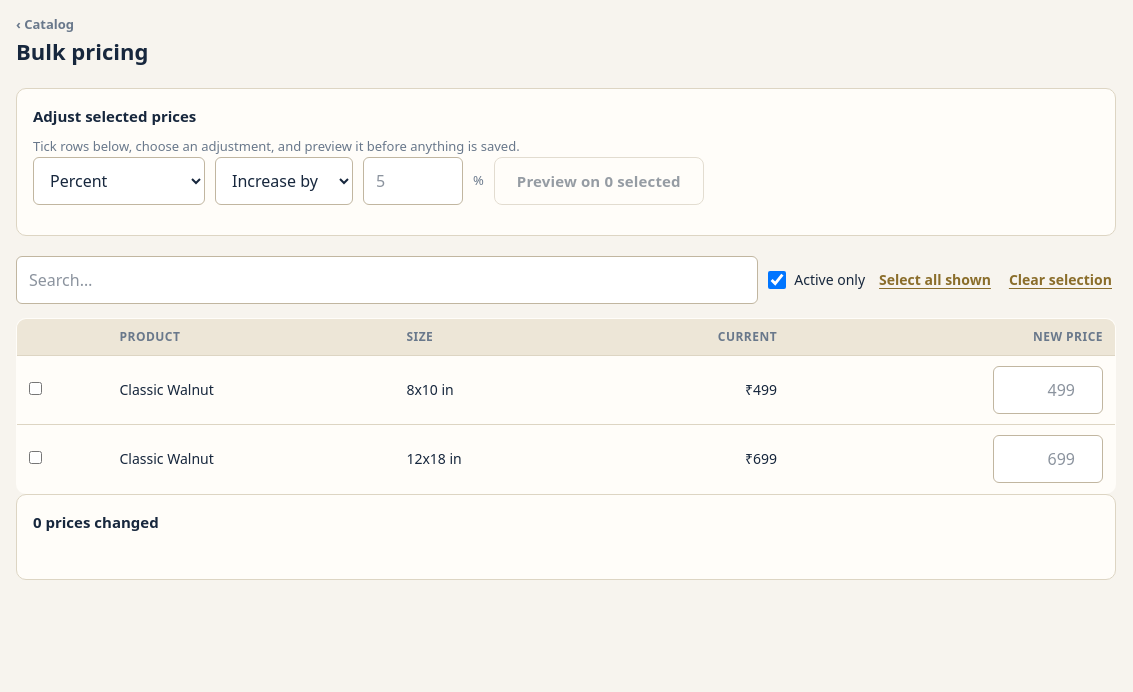
it: BulkPricingPage › previews a percentage increase on selected rows before saving anything
The image size is (1133, 692).
Click the checkbox named "Select Classic Walnut 8x10 in" at x=36, y=388, box [29,382,42,394]
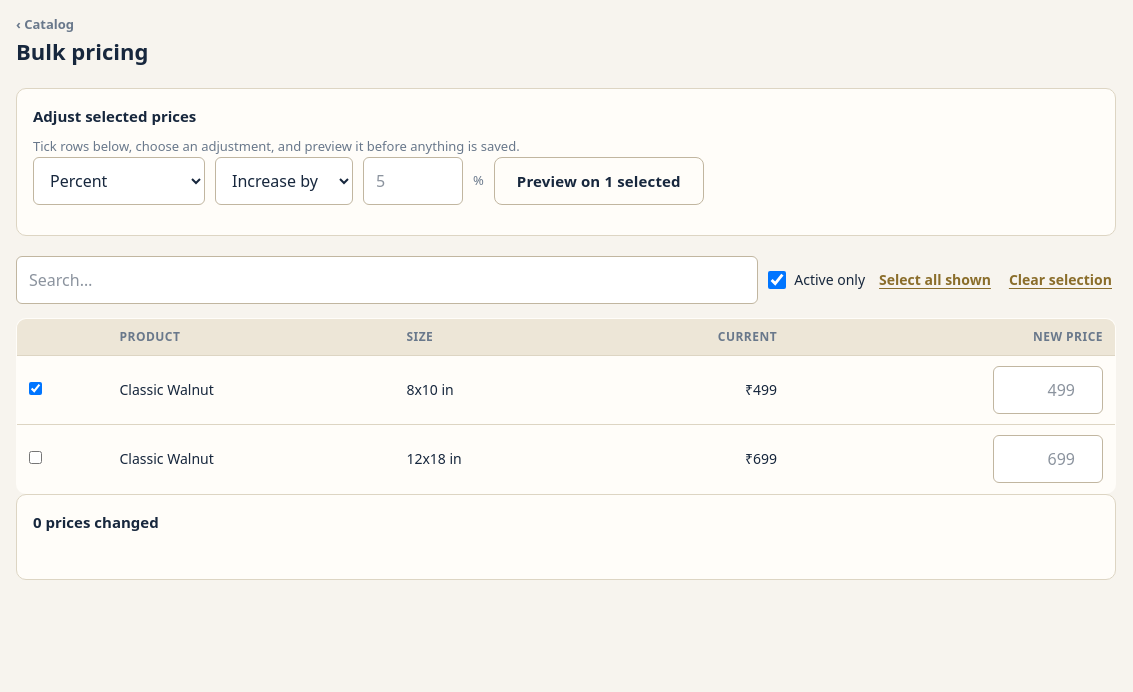
Type "10" into the number field with test id "adjustment-amount" at x=413, y=180, box [363,156,463,204]
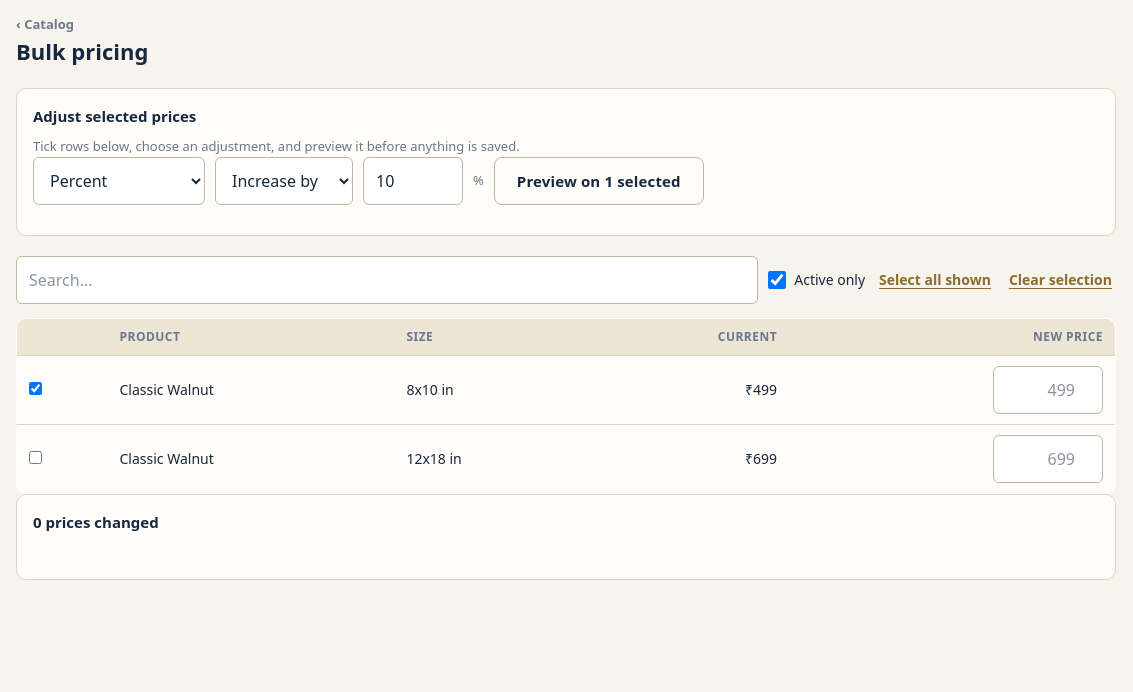
Click the button with test id "preview-adjustment" at x=599, y=180, box [494,156,704,204]
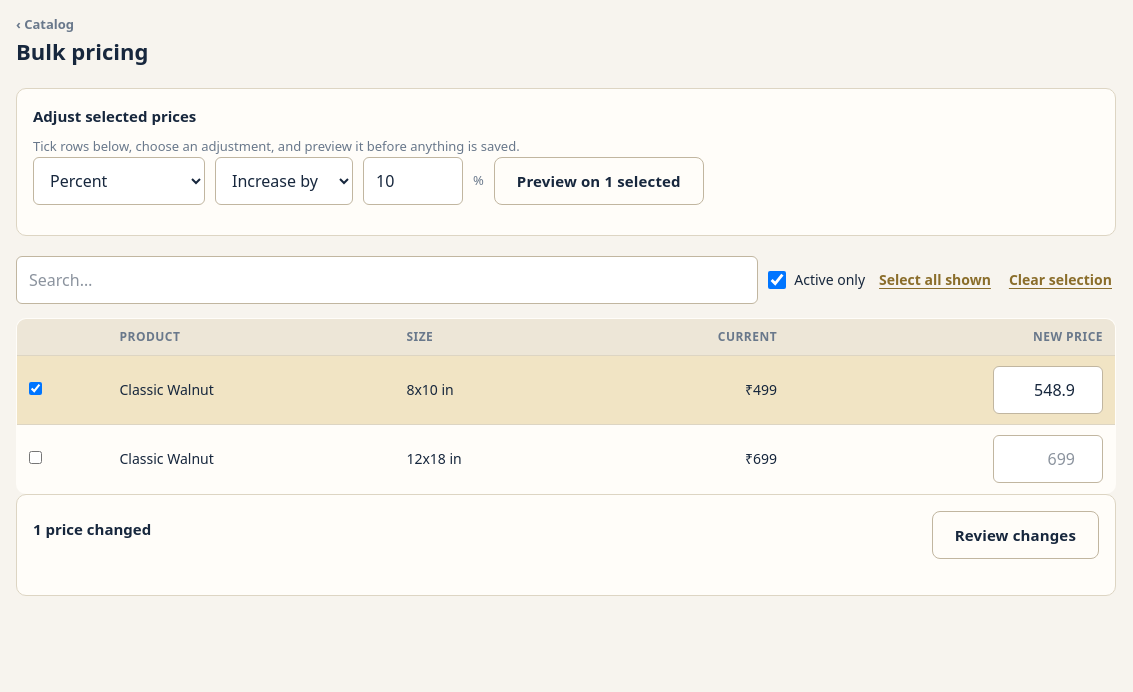
Expected: the number field with test id "new-price-walnut-8x10" holds "548.9", [993,366,1103,414]
Click the button with test id "review-changes" at x=1015, y=534, box [932,510,1099,558]
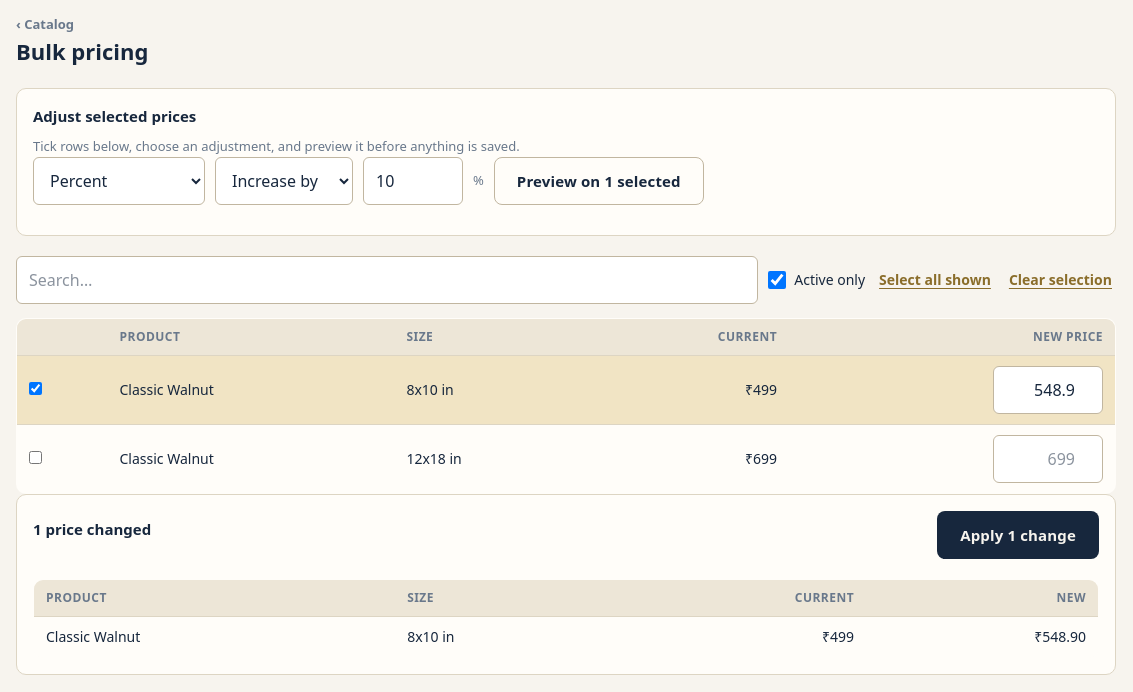
Expected: the table with test id "review-table" is shown, [33,578,1099,658]
